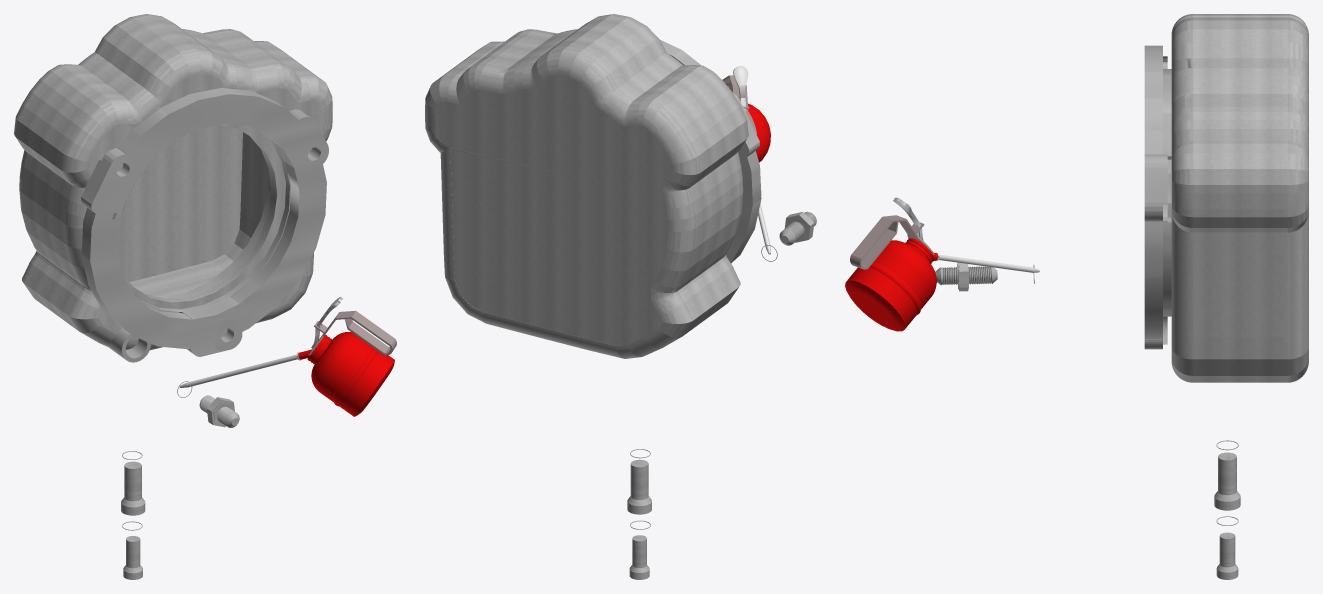
File: Scene 64 step 1.fbx
3 views of the same model, side by side, from view 1: azimuth 30°, elevation 25°; view 2: azimuth 150°, elevation 25°; view 3: azimuth 270°, elevation 25° (orthographic). The views are drawn at different scales.
Parts seen in each view (by area): view 1: 1, Oiler, 2, 2.001, 7; view 2: 1, Oiler, 2, 2.001, 7; view 3: 1, Oiler, 2, 7, 2.001.
Part boxes in pixels (x1=…): 1: x1=14, y1=14, x2=332, y2=362; Oiler: x1=179, y1=297, x2=396, y2=416; 2: x1=121, y1=461, x2=145, y2=515; 2.001: x1=123, y1=536, x2=142, y2=579; 7: x1=199, y1=395, x2=239, y2=427; 1: x1=425, y1=14, x2=761, y2=358; Oiler: x1=722, y1=66, x2=770, y2=254; 2: x1=627, y1=459, x2=651, y2=514; 2.001: x1=629, y1=535, x2=649, y2=579; 7: x1=779, y1=211, x2=816, y2=245; 1: x1=1144, y1=14, x2=1308, y2=382; Oiler: x1=845, y1=197, x2=1039, y2=331; 2: x1=1214, y1=452, x2=1240, y2=510; 7: x1=935, y1=266, x2=997, y2=285; 2.001: x1=1216, y1=532, x2=1238, y2=579.
Bounding box in the file's own units: 250 × 470 × 346.
9 materials, 6 textured.
